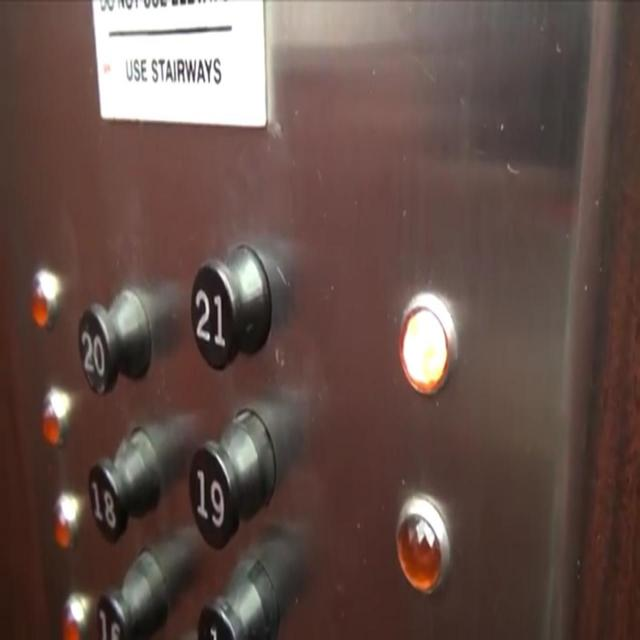18: (85, 428, 164, 540)
19: (188, 404, 276, 548)
20: (75, 286, 153, 396)
21: (188, 250, 272, 372)
indicator: (396, 287, 458, 405), (396, 495, 452, 594), (25, 268, 63, 332), (39, 381, 75, 448), (50, 484, 84, 550), (54, 588, 90, 639)
